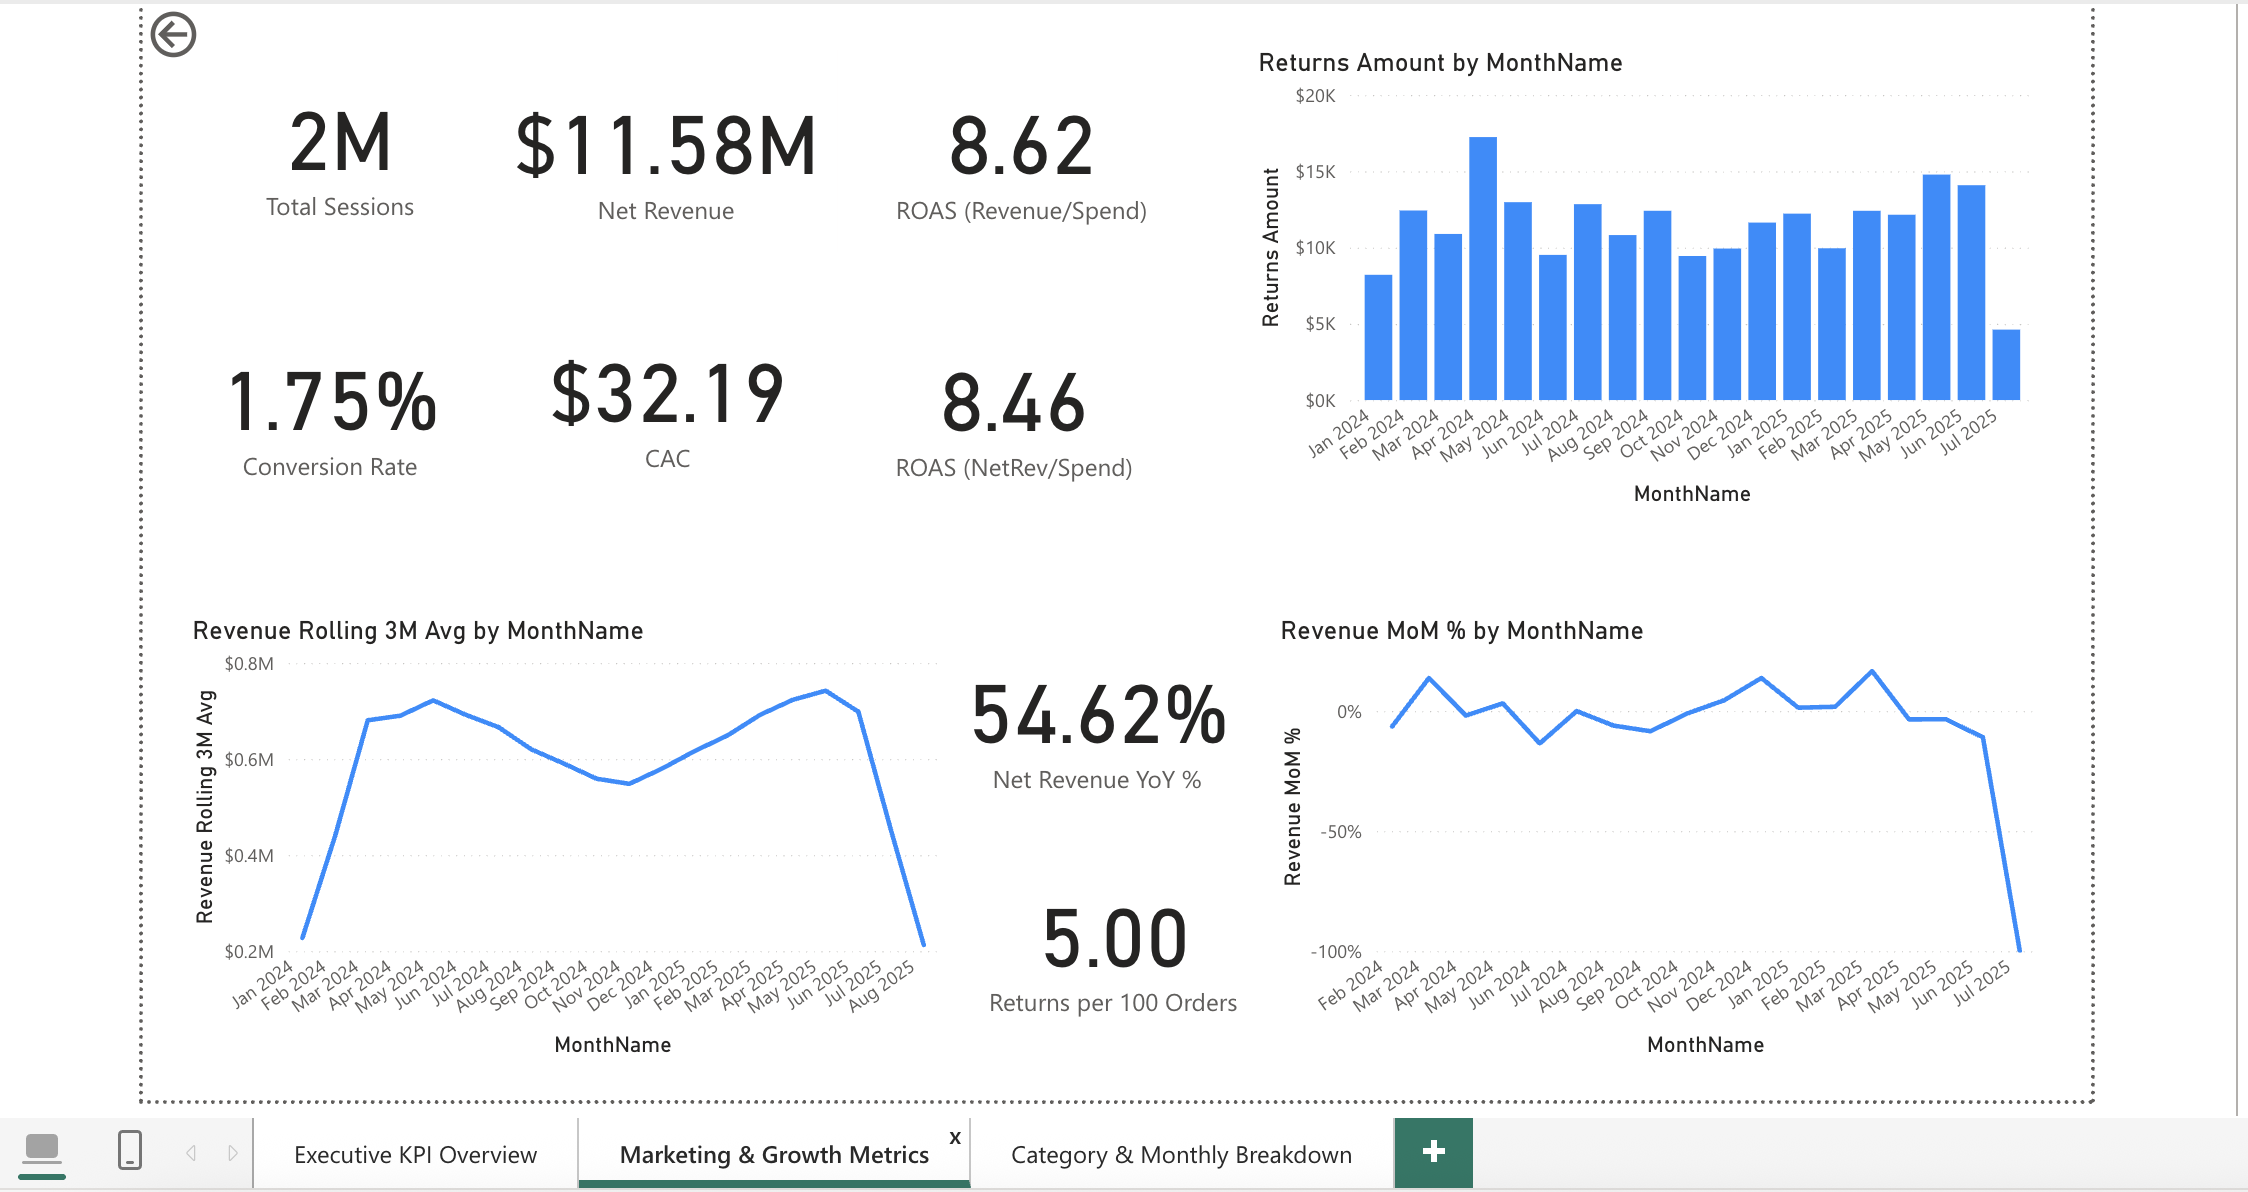

What the dashboard file says about the page in this screenshot:
{"tool":"powerbi","page":{"name":"Marketing & Growth Metrics","canvas":[1280,720],"ordinal":1},"visuals":[{"type":"card","fields":{"Values":["Orders.Total Sessions"]},"box":[27.1,1.6,204,184.9],"z":0},{"type":"card","fields":{"Values":["Orders.Conversion Rate"]},"box":[33.5,183.3,180.1,161],"z":1000},{"type":"card","fields":{"Values":["Orders.ROAS (NetRev/Spend)"]},"box":[478.2,191.3,188.1,146.7],"z":2000},{"type":"card","fields":{"Values":["Orders.CAC"]},"box":[248.7,183.3,192.9,151.4],"z":3000},{"type":"card","fields":{"Values":["Orders.ROAS (Revenue/Spend)"]},"box":[489.4,20.7,176.9,151.4],"z":4000},{"type":"lineChart","fields":{"Category":["CalendarMonth.MonthName"],"Y":["Orders.Revenue Rolling 3M Avg"]},"box":[27.1,403.3,498.9,293.3],"z":5000},{"type":"lineChart","fields":{"Category":["CalendarMonth.MonthName"],"Y":["Orders.Revenue MoM %"]},"box":[742.8,403.3,505.3,293.3],"z":6000},{"type":"columnChart","fields":{"Category":["CalendarMonth.MonthName"],"Y":["Orders.Returns Amount"]},"box":[728.5,30.3,519.7,304.5],"z":7000},{"type":"card","fields":{"Values":["Orders.Net Revenue"]},"box":[231.1,30.3,224.8,132.3],"z":8000},{"type":"actionButton","box":[0,0,100,40],"z":9000},{"type":"card","fields":{"Values":["Orders.Returns per 100 Orders"]},"box":[546.7,537.2,181.7,159.4],"z":10000},{"type":"card","fields":{"Values":["Orders.Net Revenue YoY %"]},"box":[526,403.3,202.4,133.9],"z":11000}]}

Visuals, with their boxes on the page's 1280x720 design canvas (x1, y1, x2, y2). These are canvas units, not pixel positions in the 2248x1192 screenshot, which may show the page scaled, cropped or inside an application window:
card - Orders.Total Sessions: {"x1": 27, "y1": 2, "x2": 231, "y2": 186}
card - Orders.Conversion Rate: {"x1": 34, "y1": 183, "x2": 214, "y2": 344}
card - Orders.ROAS (NetRev/Spend): {"x1": 478, "y1": 191, "x2": 666, "y2": 338}
card - Orders.CAC: {"x1": 249, "y1": 183, "x2": 442, "y2": 335}
card - Orders.ROAS (Revenue/Spend): {"x1": 489, "y1": 21, "x2": 666, "y2": 172}
lineChart - CalendarMonth.MonthName x Orders.Revenue Rolling 3M Avg: {"x1": 27, "y1": 403, "x2": 526, "y2": 697}
lineChart - CalendarMonth.MonthName x Orders.Revenue MoM %: {"x1": 743, "y1": 403, "x2": 1248, "y2": 697}
columnChart - CalendarMonth.MonthName x Orders.Returns Amount: {"x1": 728, "y1": 30, "x2": 1248, "y2": 335}
card - Orders.Net Revenue: {"x1": 231, "y1": 30, "x2": 456, "y2": 163}
actionButton: {"x1": 0, "y1": 0, "x2": 100, "y2": 40}
card - Orders.Returns per 100 Orders: {"x1": 547, "y1": 537, "x2": 728, "y2": 697}
card - Orders.Net Revenue YoY %: {"x1": 526, "y1": 403, "x2": 728, "y2": 537}
